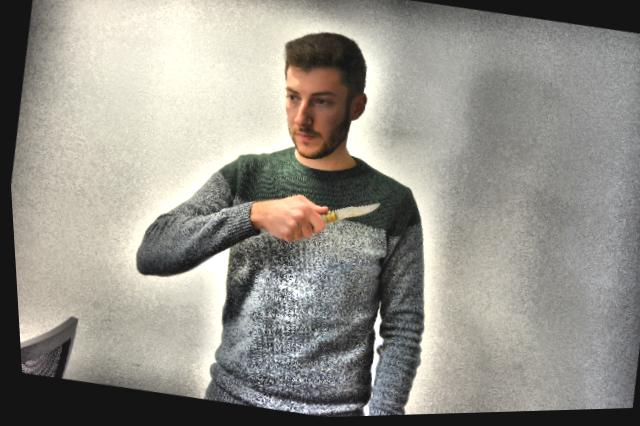knife: (299, 187, 384, 246)
